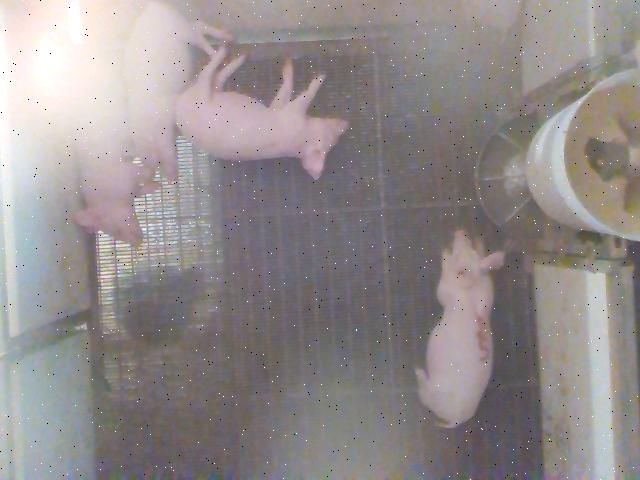pig-3: (416, 231, 505, 428)
